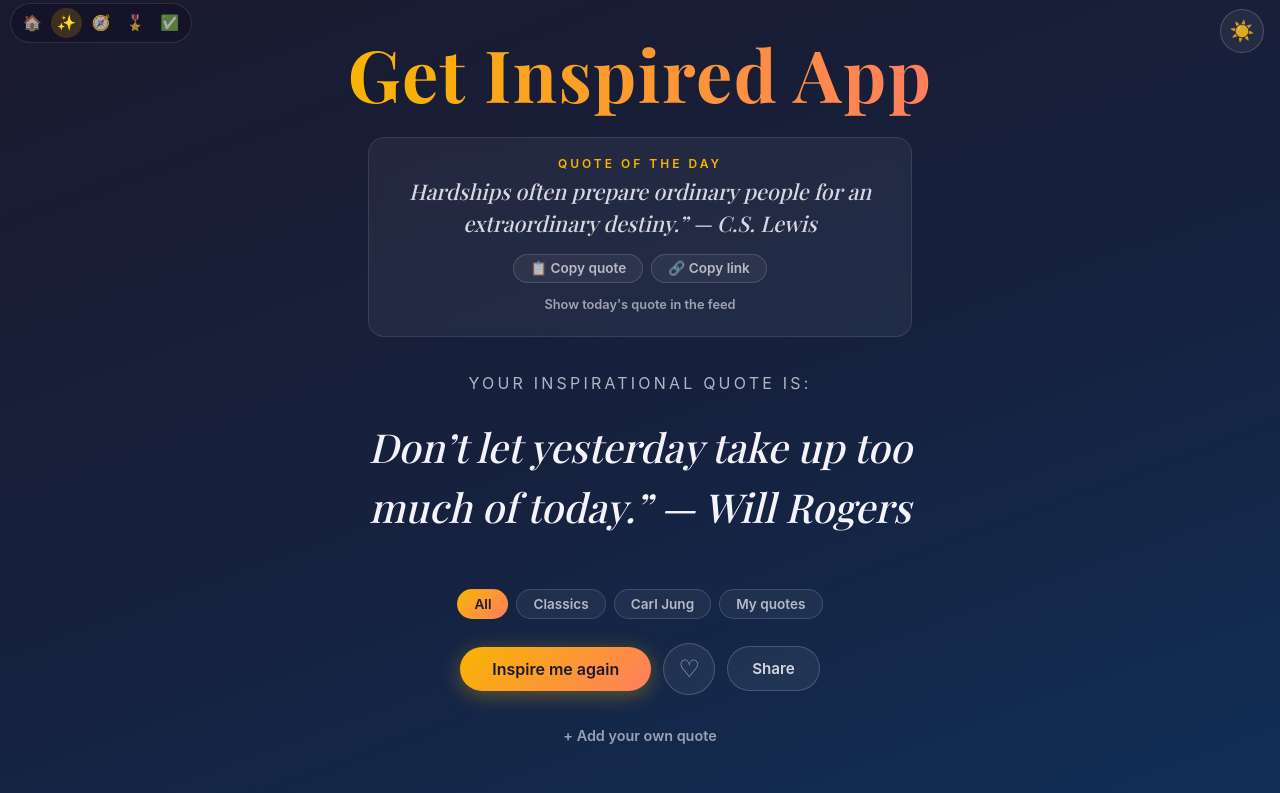
Test: App › toggles the same quote out of favorites
Click the button named "add quote to favorites".
click(689, 668)  # box top-left (663, 642), bottom-right (715, 694)
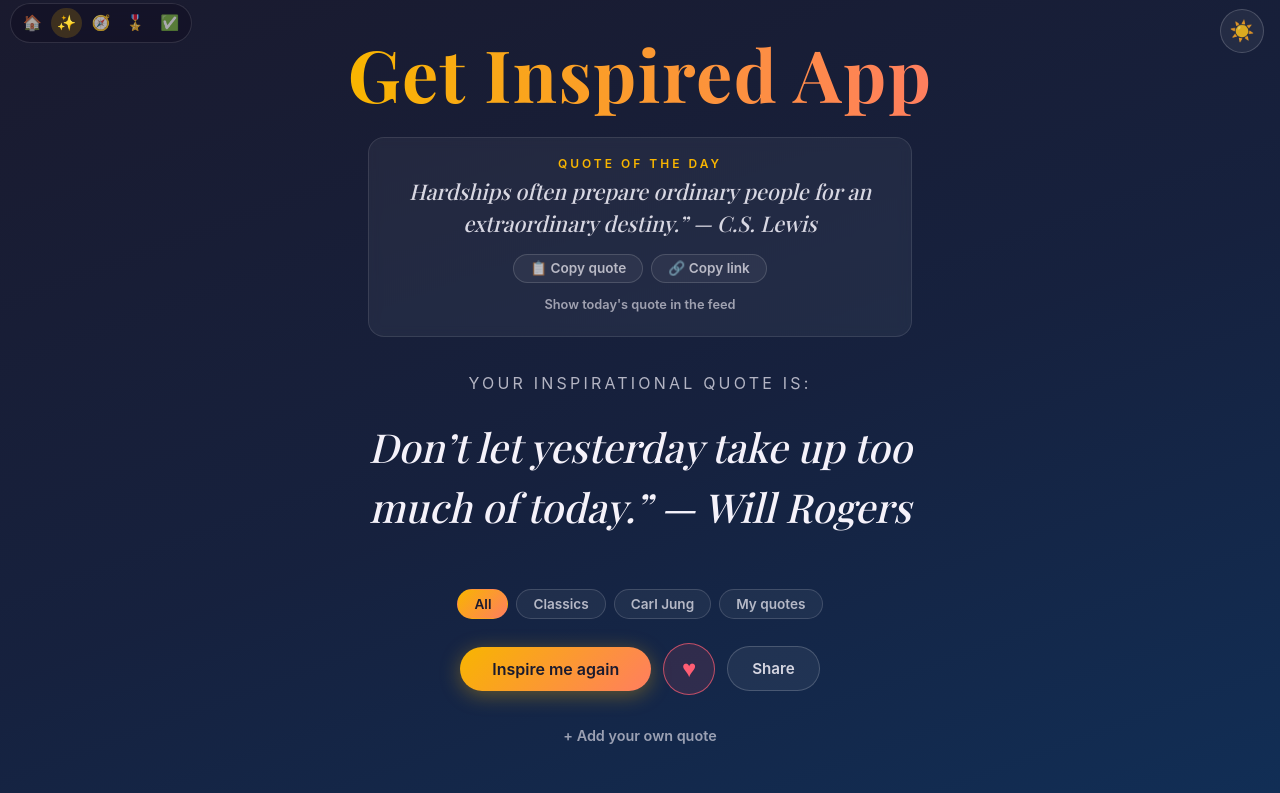
Click the button named "remove quote from favorites".
click(689, 668)  # box top-left (663, 642), bottom-right (715, 694)
(page scrolled)
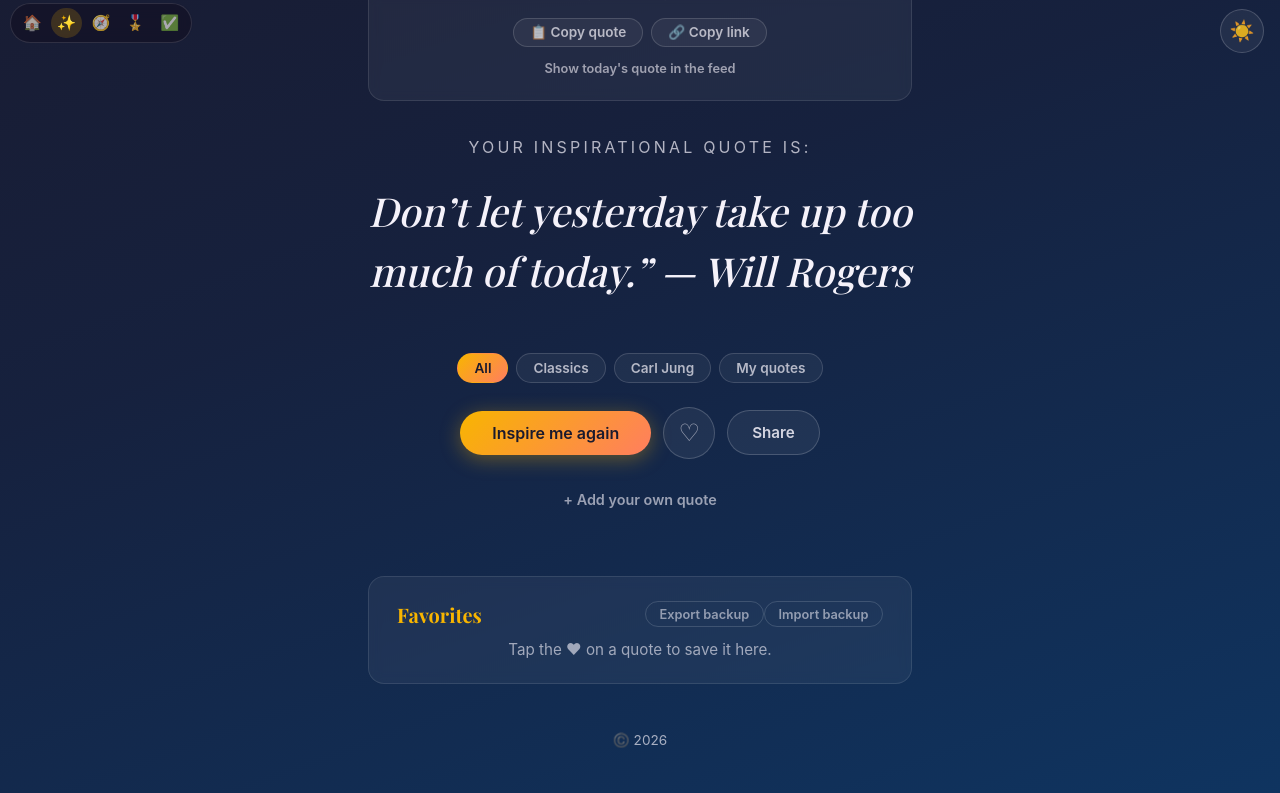
Expected: the text "Tap the ♥ on a quote to save it here." is shown, top-left (508, 640), bottom-right (772, 658)
